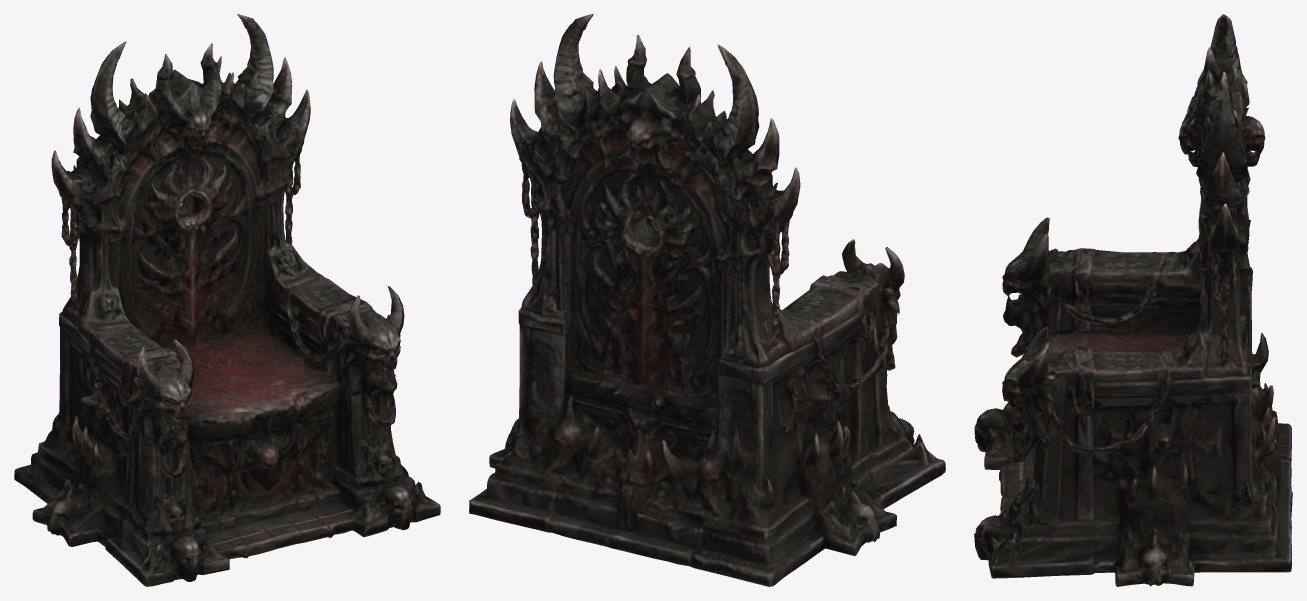
Rendered from throne.glb.
The picture shows the model from 3 angles, left to right: view 1: azimuth 30°, elevation 25°; view 2: azimuth 150°, elevation 25°; view 3: azimuth 270°, elevation 25°; orthographic projection. The views are drawn at different scales.
Visible parts, largest first — view 1: Object_6; view 2: Object_6; view 3: Object_6.
Part boxes in pixels (x1,y1,x2,y2): Object_6: (14, 14, 440, 586); Object_6: (469, 14, 945, 586); Object_6: (974, 14, 1292, 586).
Size of the model in its own units: 1.49 by 1.9 by 1.19.
1 material, 1 textured.
